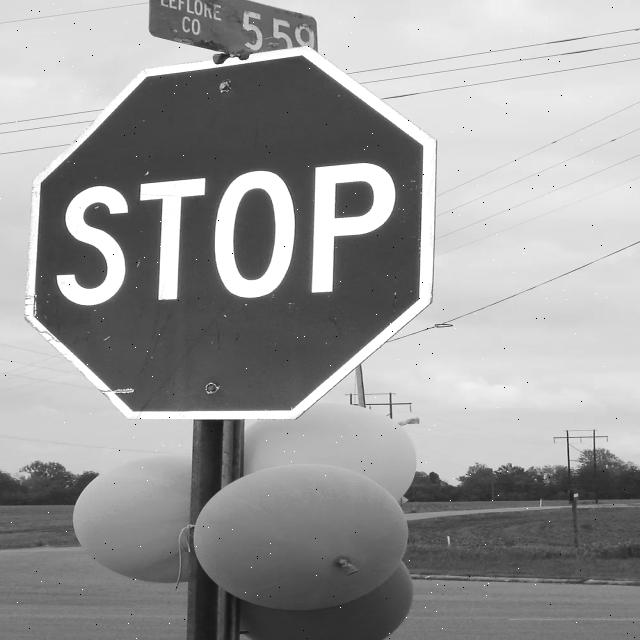Stop-sign: (9, 41, 465, 428)
